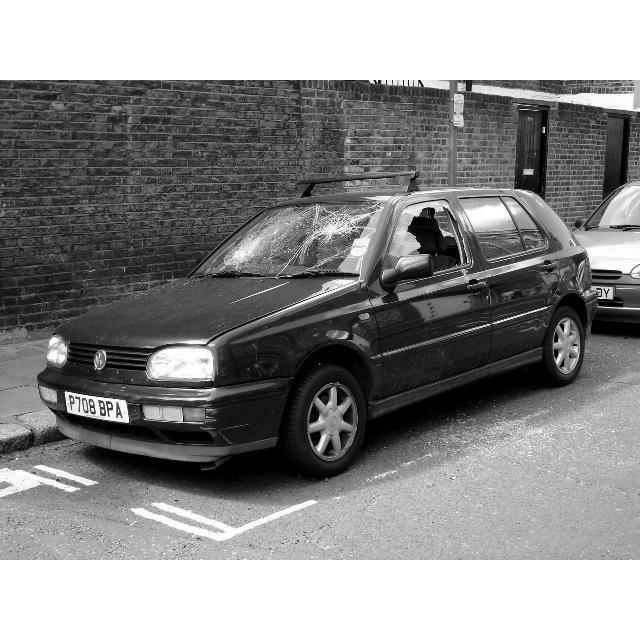Front-windscreen-damage: (212, 202, 387, 287)
doorouter-dent: (487, 259, 562, 356)
front-bumper-dent: (116, 384, 282, 471)
